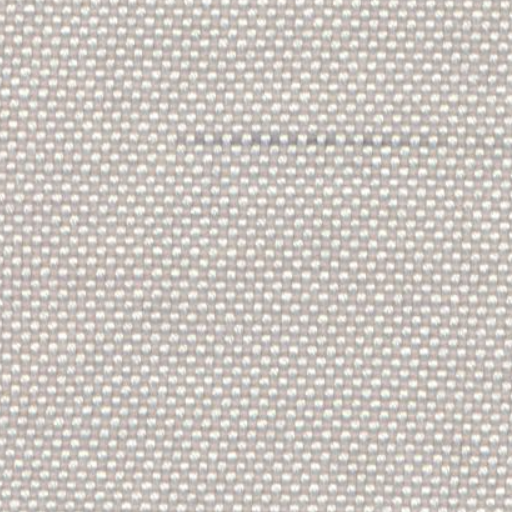WuZi: (181, 127, 405, 150)
